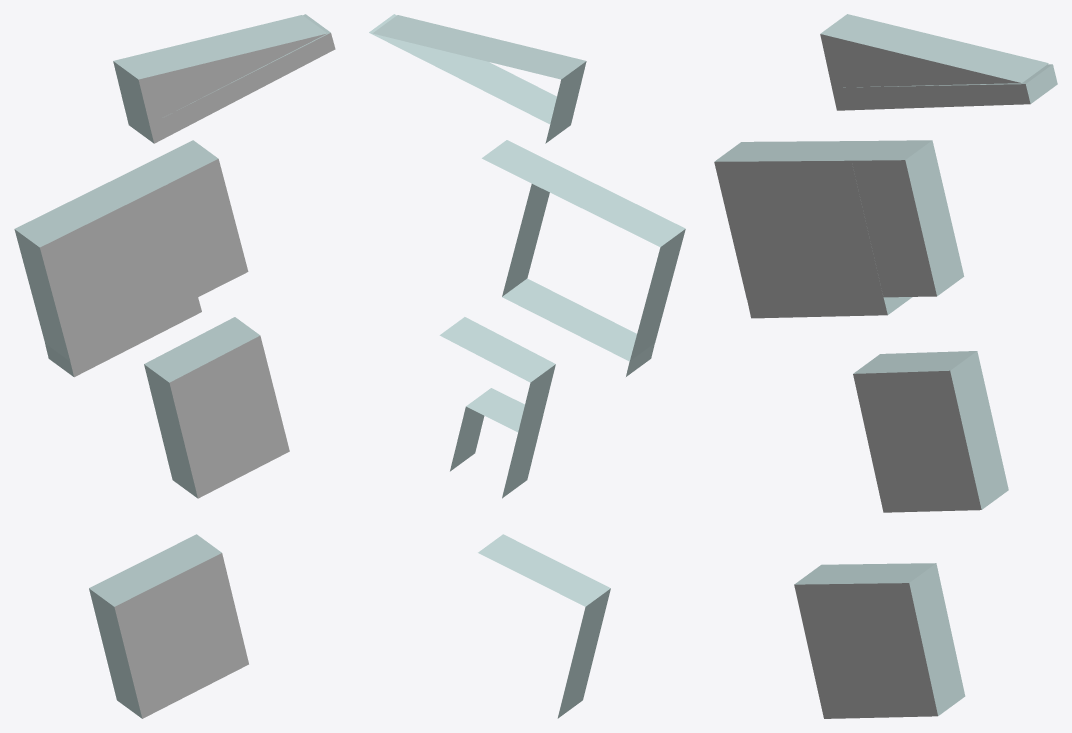
3 views of the same model, side by side, from view 1: azimuth 30°, elevation 25°; view 2: azimuth 150°, elevation 25°; view 3: azimuth 330°, elevation 25° (orthographic). The views are drawn at different scales.
Visible parts, largest first — view 1: 0_2_1_2_3_0_0; view 2: 0_2_1_2_3_0_0; view 3: 0_2_1_2_3_0_0.
Boxes of the visible parts, x1,y1,x2,y2 form: 0_2_1_2_3_0_0: [14, 14, 335, 718]; 0_2_1_2_3_0_0: [369, 14, 685, 718]; 0_2_1_2_3_0_0: [714, 14, 1057, 718].
Size of the model in its own units: 20.13 by 41.61 by 3.03.
